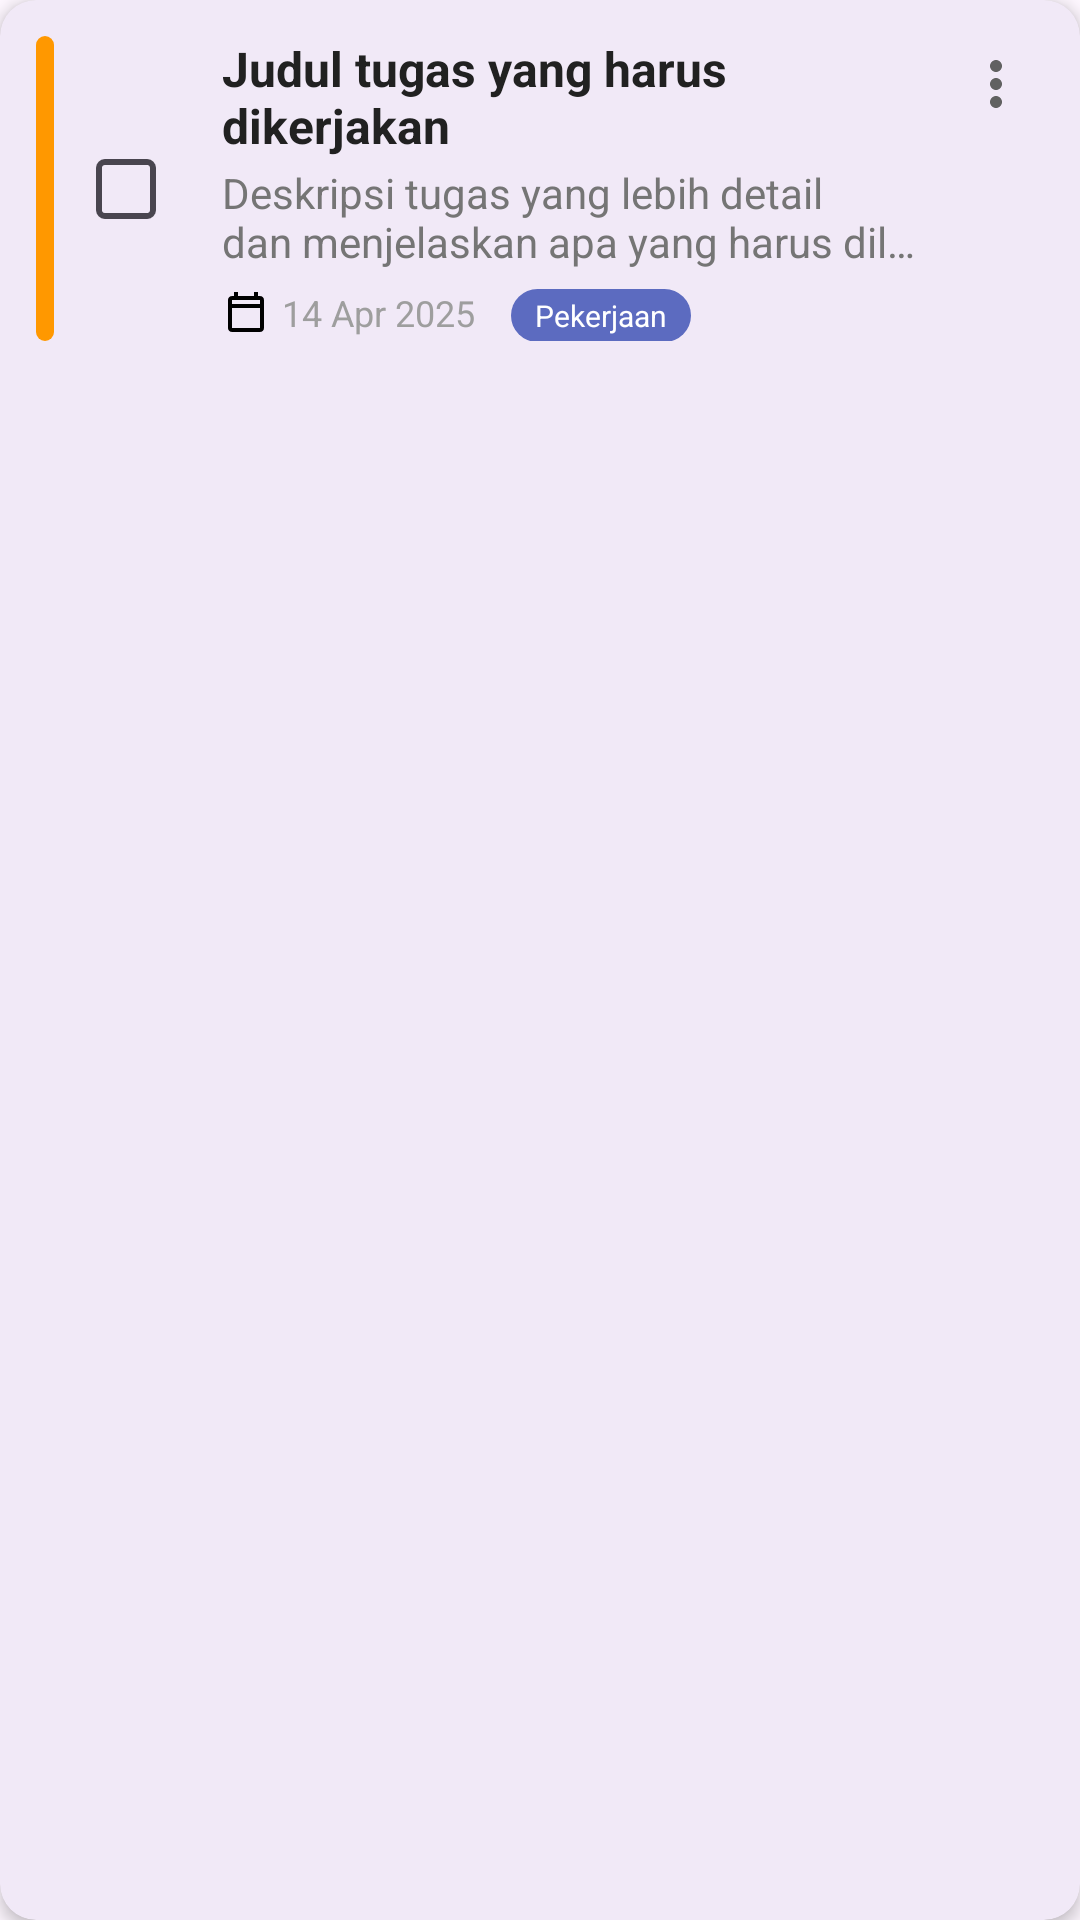

Screen size 1080px x 1920px. Icon name, then its center in pixels as [x,y]:
custom checkbox: [126,189]
more: [996,84]
